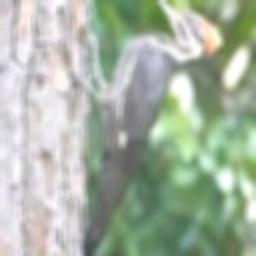Woodpecker: (80, 0, 224, 256)
